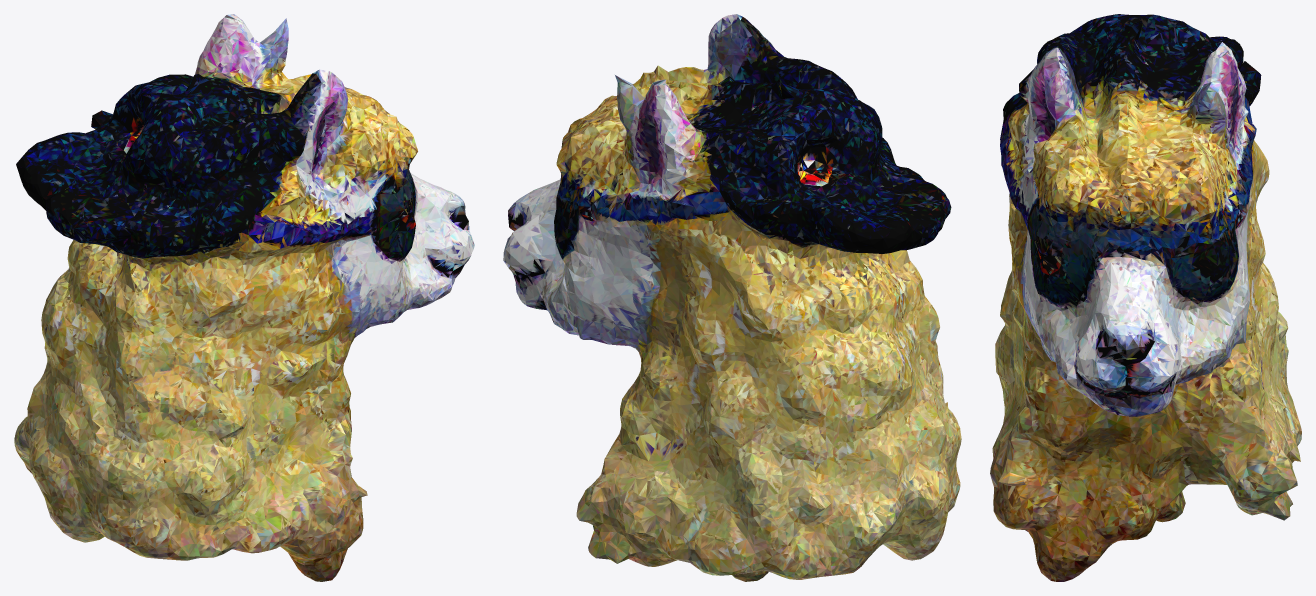
The model's file is alpaca-scribble.glb.
The picture shows the model from 3 angles, left to right: view 1: azimuth 30°, elevation 25°; view 2: azimuth 150°, elevation 25°; view 3: azimuth 270°, elevation 25°; orthographic projection. The views are drawn at different scales.
Parts seen in each view (by area): view 1: extracted_mesh; view 2: extracted_mesh; view 3: extracted_mesh.
Boxes of the visible parts, x1,y1,x2,y2 form: extracted_mesh: (14, 14, 474, 581); extracted_mesh: (503, 14, 961, 581); extracted_mesh: (990, 14, 1301, 581).
Size of the model in its own units: 0.9742 by 1.14 by 0.6065.
Materials: 1 (1 with a texture image).
